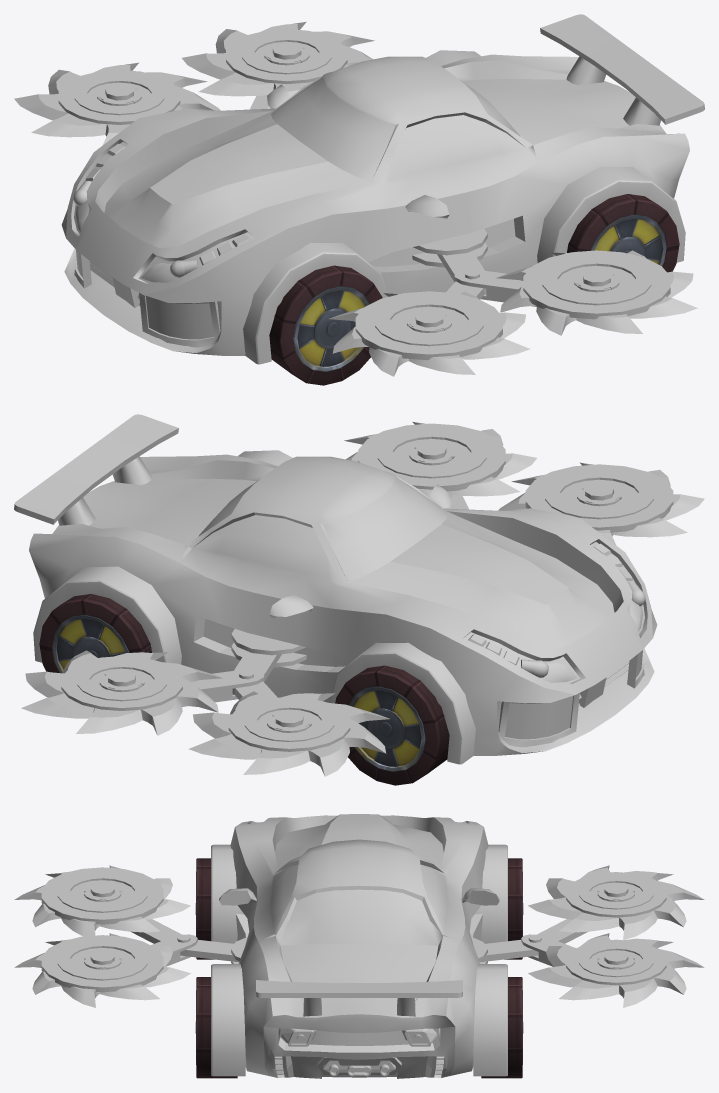
File: falali_level4.FBX
3 views of the same model, one above another, from view 1: azimuth 30°, elevation 25°; view 2: azimuth 150°, elevation 25°; view 3: azimuth 270°, elevation 25° (orthographic). The views are drawn at different scales.
Visible parts, largest first — view 1: falali_level4, falali_level4_wheel (×2), falali_level4_weaponL, falali_level4_weaponL2, falali_level4_weaponR, falali_level4_weaponR2, falali_level4_weiyi, falali_level4_3, falali_level4_1, falali_level4_2; view 2: falali_level4, falali_level4_wheel (×2), falali_level4_weaponR, falali_level4_weaponR2, falali_level4_weaponL, falali_level4_weaponL2, falali_level4_weiyi, falali_level4_3, falali_level4_1, falali_level4_2; view 3: falali_level4, falali_level4_weaponL2, falali_level4_weaponL, falali_level4_weaponR, falali_level4_weaponR2, falali_level4_wheel (×4), falali_level4_weiyi, falali_level4_3, falali_level4_2, falali_level4_1.
Part boxes in pixels (<box>): falali_level4: <box>61,50,689,364</box>; falali_level4_wheel (×2): <box>269,194,679,385</box>; falali_level4_weaponL: <box>329,291,530,376</box>; falali_level4_weaponL2: <box>496,250,697,335</box>; falali_level4_weaponR: <box>14,62,220,144</box>; falali_level4_weaponR2: <box>182,21,374,108</box>; falali_level4_weiyi: <box>540,14,704,125</box>; falali_level4_3: <box>249,95,536,306</box>; falali_level4_1: <box>412,229,487,267</box>; falali_level4_2: <box>437,251,486,294</box>; falali_level4: <box>29,450,657,764</box>; falali_level4_wheel (×2): <box>39,594,449,785</box>; falali_level4_weaponR: <box>188,691,389,776</box>; falali_level4_weaponR2: <box>21,650,222,735</box>; falali_level4_weaponL: <box>498,462,704,544</box>; falali_level4_weaponL2: <box>344,421,536,508</box>; falali_level4_weiyi: <box>14,414,178,525</box>; falali_level4_3: <box>182,495,469,706</box>; falali_level4_1: <box>231,629,306,667</box>; falali_level4_2: <box>232,651,281,694</box>; falali_level4: <box>211,814,507,1078</box>; falali_level4_weaponL2: <box>14,933,190,1007</box>; falali_level4_weaponL: <box>14,865,190,936</box>; falali_level4_weaponR: <box>528,865,704,940</box>; falali_level4_weaponR2: <box>528,933,704,1007</box>; falali_level4_wheel (×4): <box>195,858,523,1078</box>; falali_level4_weiyi: <box>256,980,462,1016</box>; falali_level4_3: <box>131,919,587,966</box>; falali_level4_2: <box>180,939,538,962</box>; falali_level4_1: <box>231,937,487,963</box>.
Size of the model in its own units: 58.87 by 20.26 by 77.85.
